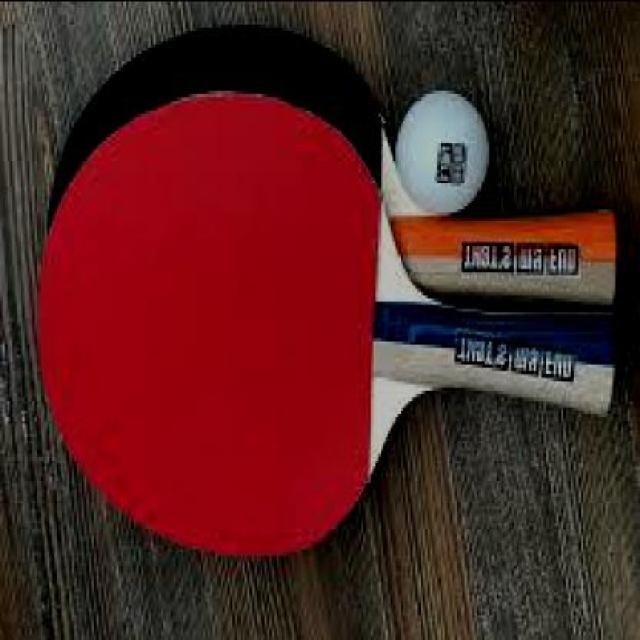table_tennis_racket: (29, 91, 413, 568)
